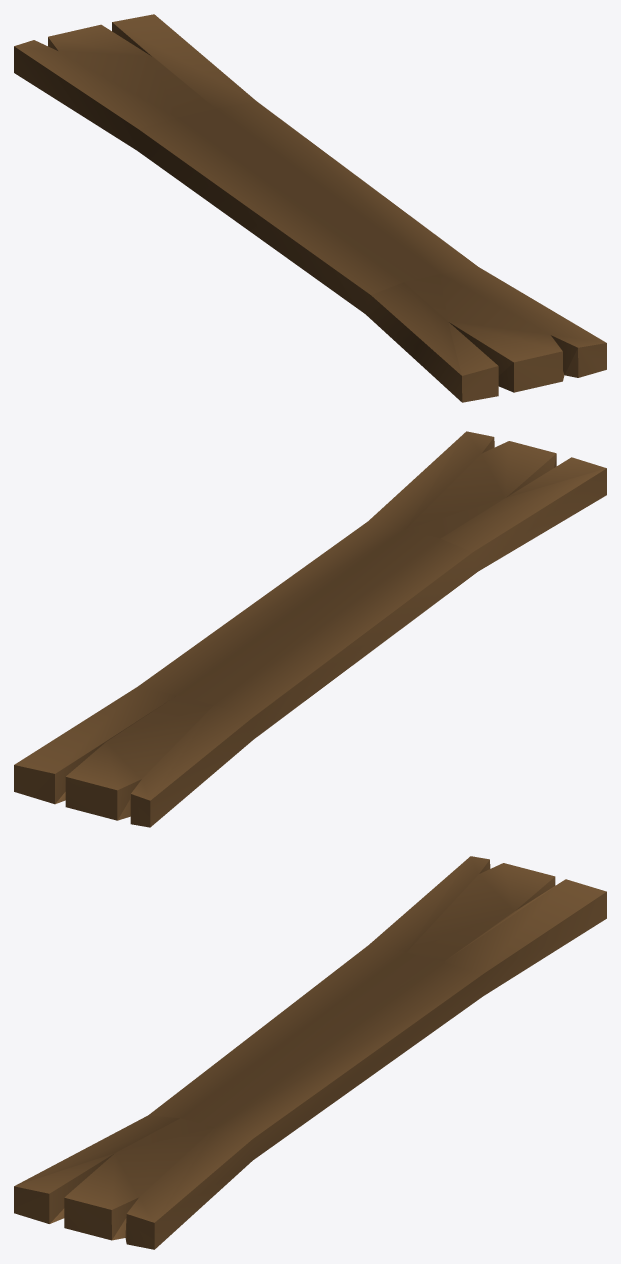
Rendered from obj_woodPiece_A_LOW.FBX.
The picture shows the model from 3 angles, top to bottom: view 1: azimuth 30°, elevation 25°; view 2: azimuth 150°, elevation 25°; view 3: azimuth 330°, elevation 25°; orthographic projection.
Parts seen in each view (by area): view 1: obj_woodPiece_A_LOW; view 2: obj_woodPiece_A_LOW; view 3: obj_woodPiece_A_LOW.
Part boxes in pixels (x1,y1,x2,y2): obj_woodPiece_A_LOW: (14, 14, 606, 402); obj_woodPiece_A_LOW: (14, 431, 606, 827); obj_woodPiece_A_LOW: (14, 856, 606, 1249).
Size of the model in its own units: 0.8126 by 0.1716 by 4.48.
